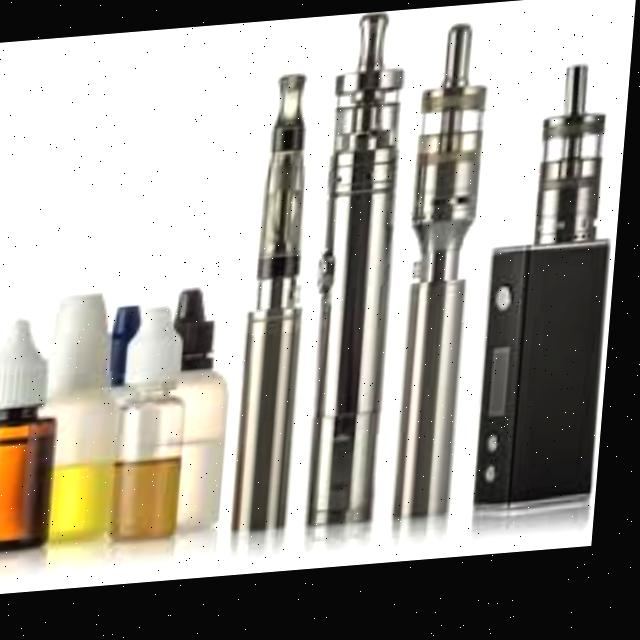vape: (482, 70, 629, 528), (309, 15, 416, 536), (398, 27, 491, 528), (238, 74, 324, 539)
